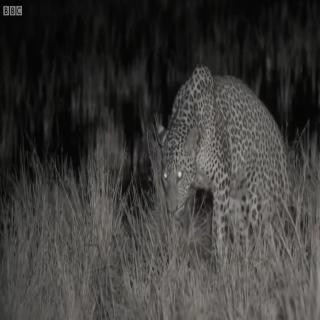Leopard: (144, 54, 313, 274)
